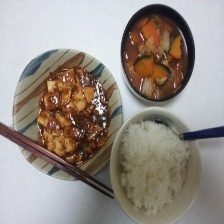rice: (121, 118, 190, 216)
